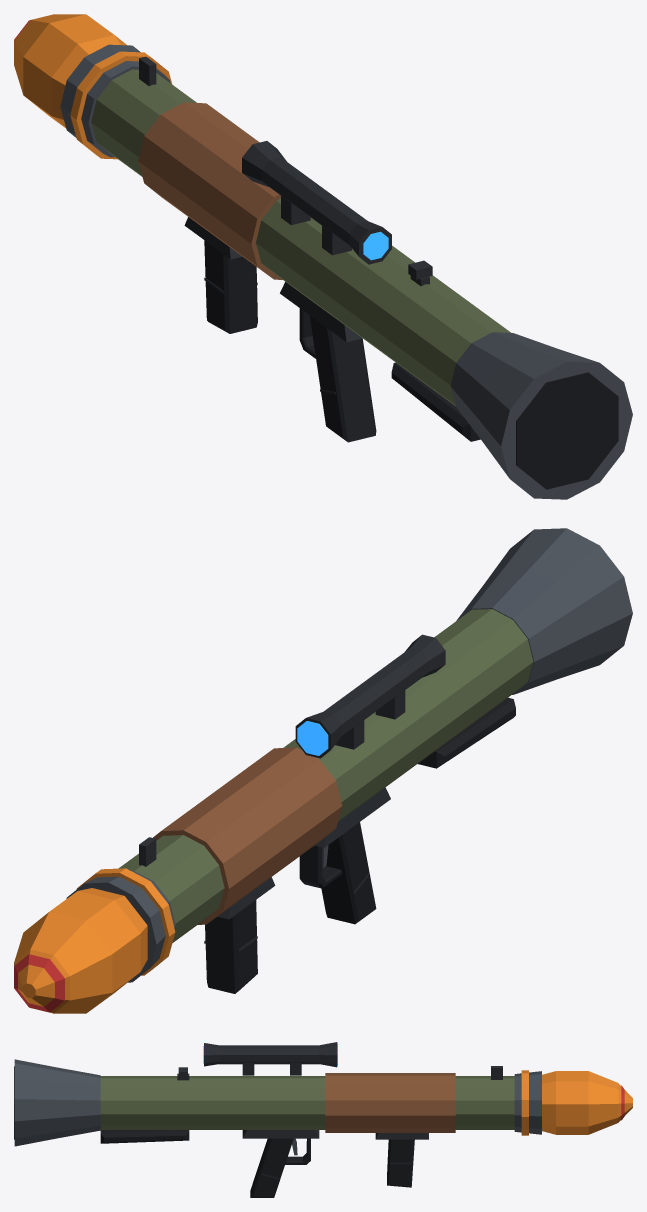
The model's file is rocket_launcher.glb.
3 views of the same model, one above another, from view 1: azimuth 30°, elevation 25°; view 2: azimuth 150°, elevation 25°; view 3: azimuth 270°, elevation 25° (orthographic). The views are drawn at different scales.
Visible parts, largest first — view 1: Body, Rocket; view 2: Body, Rocket; view 3: Body, Rocket.
Boxes of the visible parts, x1,y1,x2,y2 form: Body: [60, 44, 632, 499]; Rocket: [14, 14, 126, 128]; Body: [66, 528, 632, 993]; Rocket: [14, 888, 147, 1013]; Body: [14, 1042, 541, 1197]; Rocket: [542, 1071, 632, 1134].
Size of the model in its own units: 0.148 by 0.2659 by 1.05.
